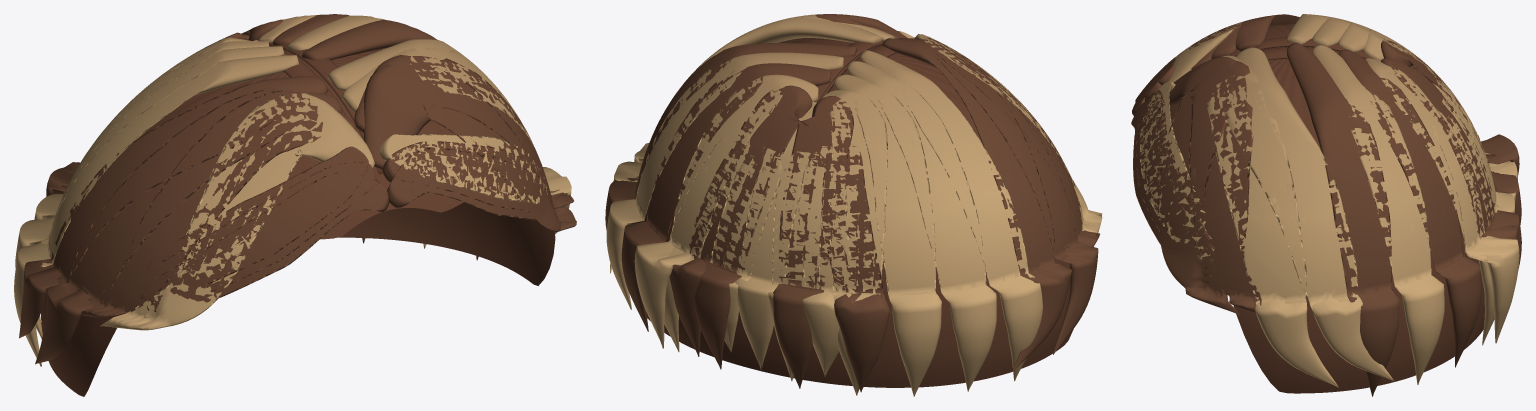
File: Highlights-5ee8fcc42c49251-hair.glb
3 views of the same model, side by side, from view 1: azimuth 30°, elevation 25°; view 2: azimuth 150°, elevation 25°; view 3: azimuth 270°, elevation 25° (orthographic). The views are drawn at different scales.
Visible parts, largest first — view 1: 226 hair / Hair / chestnut226.002, 226 hair / Hair / recessed roots251.002, 226 hair / Hair / main251.001, 226 hair / Hair / accent251.001, 226 hair / Hair / recessed roots251.003; view 2: 226 hair / Hair / main251.001, 226 hair / Hair / accent251.001, 226 hair / Hair / chestnut226.002, 226 hair / Hair / recessed roots251.002, 226 hair / Hair / recessed roots251.003; view 3: 226 hair / Hair / chestnut226.002, 226 hair / Hair / main251.001, 226 hair / Hair / accent251.001, 226 hair / Hair / recessed roots251.002, 226 hair / Hair / recessed roots251.003.
Boxes of the visible parts, <box> form: 226 hair / Hair / chestnut226.002: <box>19,39,576,364</box>; 226 hair / Hair / recessed roots251.002: <box>41,49,555,396</box>; 226 hair / Hair / main251.001: <box>14,14,478,366</box>; 226 hair / Hair / accent251.001: <box>15,15,426,339</box>; 226 hair / Hair / recessed roots251.003: <box>268,42,382,174</box>; 226 hair / Hair / main251.001: <box>605,43,1042,396</box>; 226 hair / Hair / accent251.001: <box>606,52,996,395</box>; 226 hair / Hair / chestnut226.002: <box>610,14,1102,371</box>; 226 hair / Hair / recessed roots251.002: <box>631,39,1073,387</box>; 226 hair / Hair / recessed roots251.003: <box>815,40,896,102</box>; 226 hair / Hair / chestnut226.002: <box>1131,14,1393,387</box>; 226 hair / Hair / main251.001: <box>1287,14,1521,396</box>; 226 hair / Hair / accent251.001: <box>1312,17,1519,384</box>; 226 hair / Hair / recessed roots251.002: <box>1145,24,1484,393</box>; 226 hair / Hair / recessed roots251.003: <box>1230,37,1371,60</box>.
Bounding box in the file's own units: 1.07 × 0.5895 × 0.7947.
